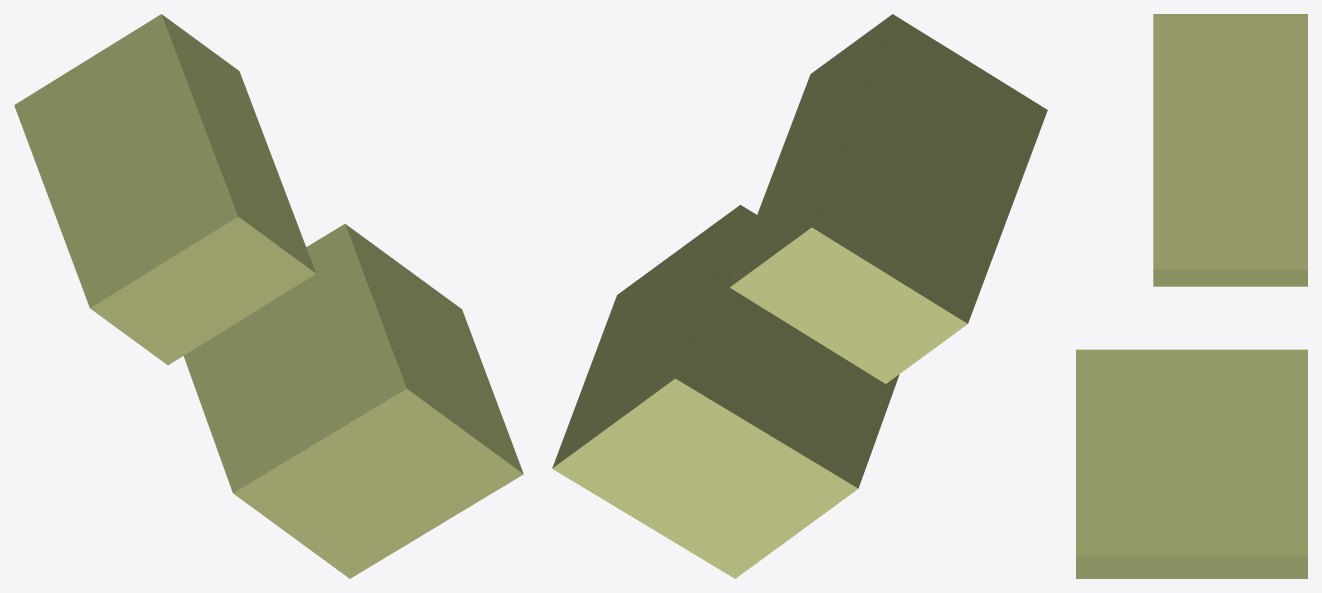
3 renders of one model, left to right at view 1: azimuth 30°, elevation 25°; view 2: azimuth 150°, elevation 25°; view 3: azimuth 270°, elevation 25°, orthographic. The views are drawn at different scales.
Parts seen in each view (by area): view 1: 0_1_0_2_0_2_0_3_2; view 2: 0_1_0_2_0_2_0_3_2; view 3: 0_1_0_2_0_2_0_3_2.
Boxes of the visible parts, x1=… form: 0_1_0_2_0_2_0_3_2: x1=14, y1=14, x2=523, y2=578; 0_1_0_2_0_2_0_3_2: x1=552, y1=14, x2=1047, y2=578; 0_1_0_2_0_2_0_3_2: x1=1076, y1=14, x2=1307, y2=578.
Bounding box in the file's own units: 17.43 × 21.07 × 9.
